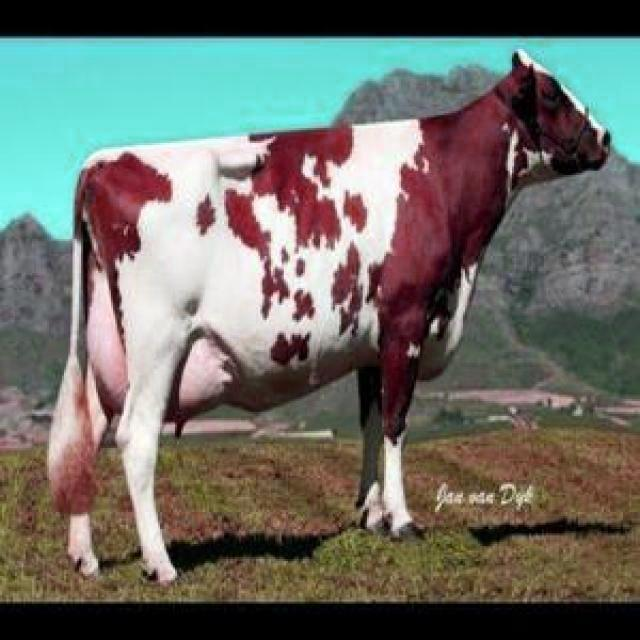cow: (50, 51, 610, 582)
